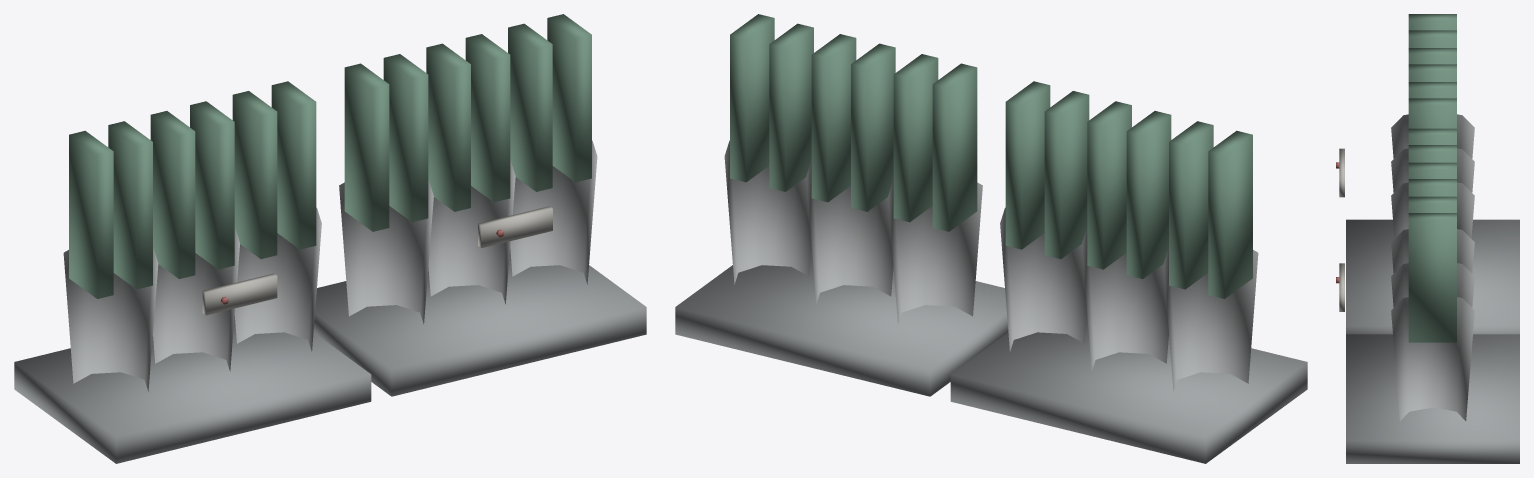
Rendered from flower_bucket_rack__cluster.glb.
3 renders of one model, left to right at view 1: azimuth 30°, elevation 25°; view 2: azimuth 150°, elevation 25°; view 3: azimuth 270°, elevation 25°, orthographic. The views are drawn at different scales.
Parts seen in each view (by area): view 1: world; view 2: world; view 3: world.
Boxes of the visible parts, <box> form: world: <box>14,14,646,463</box>; world: <box>675,14,1307,463</box>; world: <box>1336,14,1519,463</box>.
Size of the model in its own units: 1.62 by 0.81 by 0.571.
